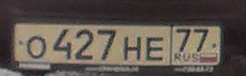character: (96, 28, 119, 62), (74, 28, 97, 61), (52, 29, 73, 61), (123, 35, 144, 63), (25, 35, 47, 61), (145, 35, 166, 62), (192, 26, 210, 54), (175, 27, 192, 52)
